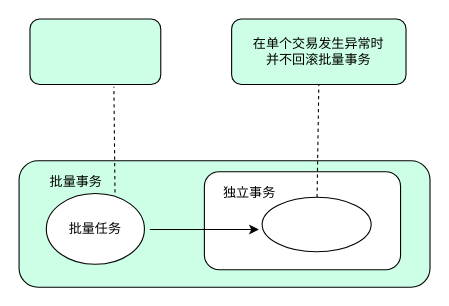
Image size: 449x306. Some labels were removed from this diagram. Here are the shapes that lost their labels. From the top down, the centre of each, then its label:
(x=95, y=51): 通过调用多个 独立交易完成任务
(x=316, y=224): 单个交易
